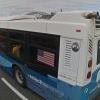Bus: (4, 10, 98, 100)
